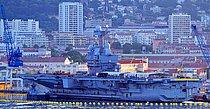MIL_Ship: (16, 37, 203, 102)
